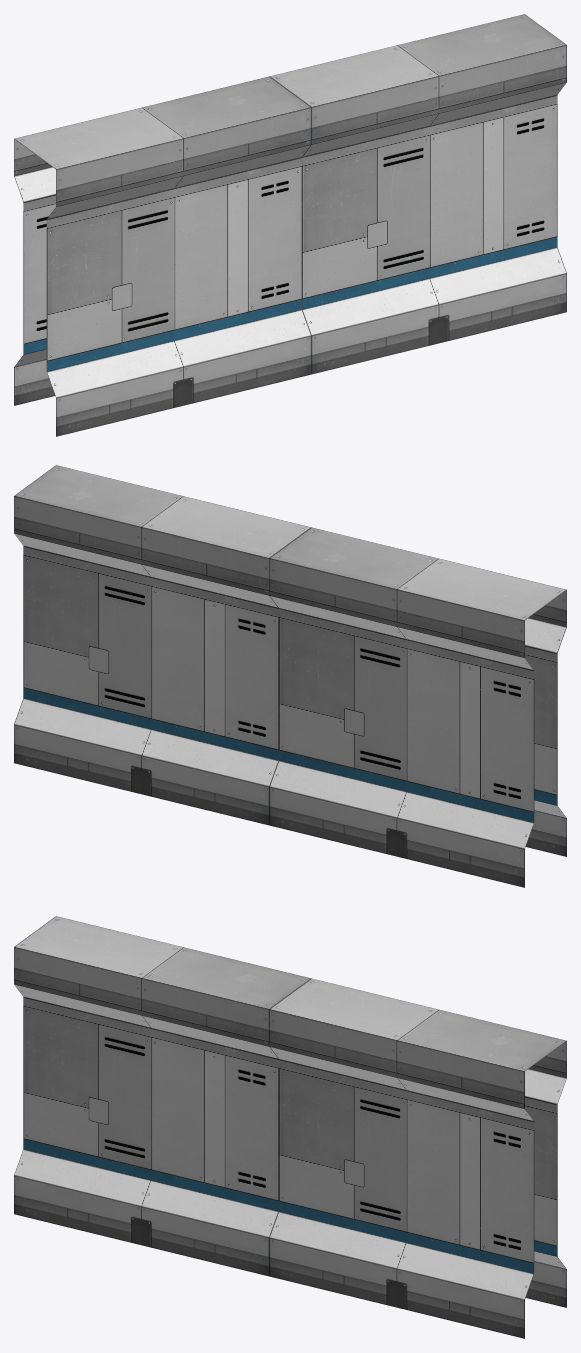
File: Wall_Long_02.FBX
3 views of the same model, one above another, from view 1: azimuth 30°, elevation 25°; view 2: azimuth 150°, elevation 25°; view 3: azimuth 330°, elevation 25° (orthographic).
Visible parts, largest first — view 1: Wall_Long_02; view 2: Wall_Long_02; view 3: Wall_Long_02.
Boxes of the visible parts, <box> form: Wall_Long_02: <box>14,14,566,436</box>; Wall_Long_02: <box>14,465,566,887</box>; Wall_Long_02: <box>14,916,566,1338</box>.
Size of the model in its own units: 280 by 140 by 40.02.
